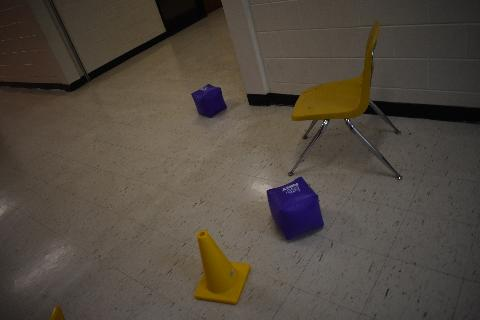cone: (195, 230, 251, 304), (50, 306, 66, 320)
cube: (268, 176, 324, 240), (192, 84, 226, 118)
